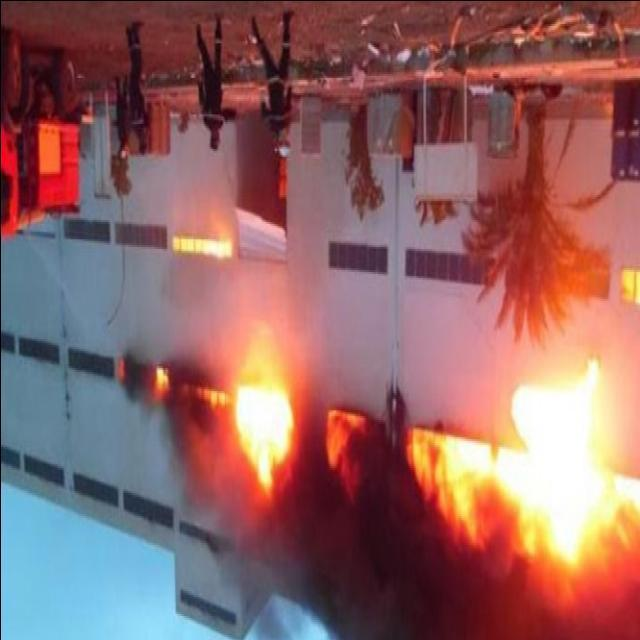Fire: (408, 369, 626, 563), (231, 372, 291, 484)
